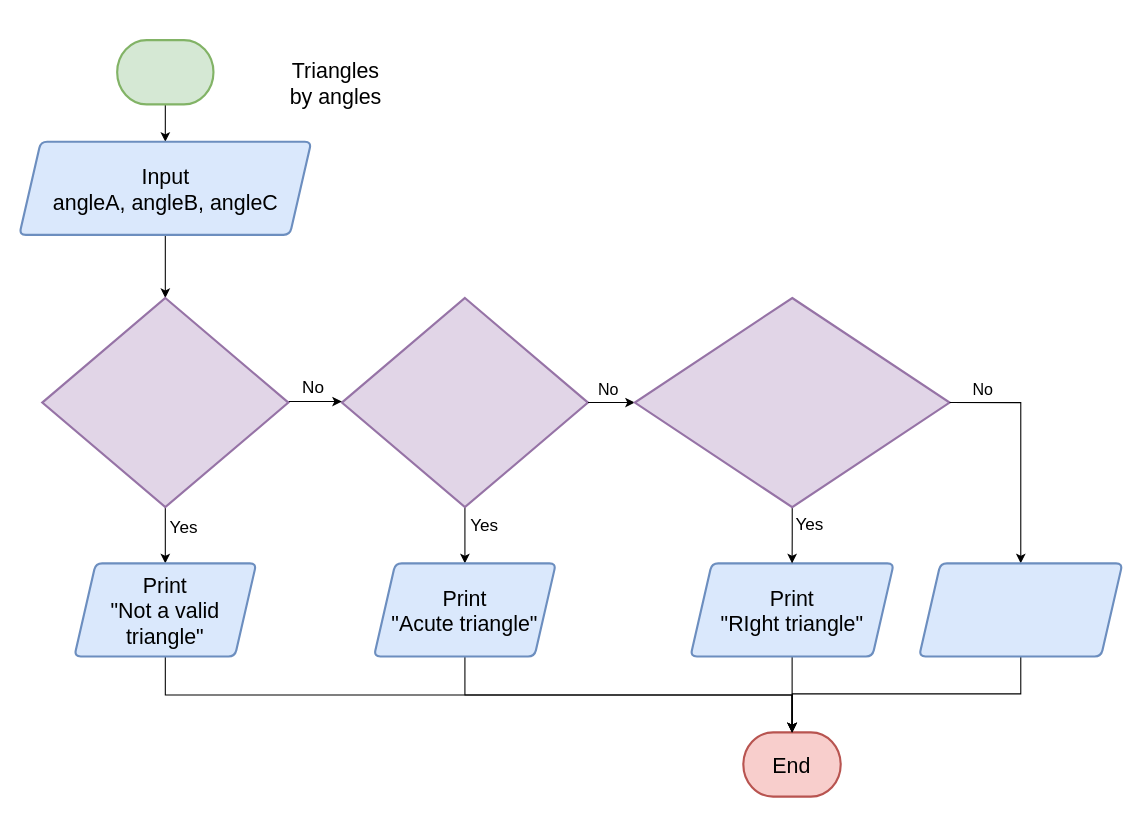
Some shapes in this 1142 by 815 pixel diagram are drawn without their labels. Here are the shapes that lost their labels. From the top down, the centre of each, then its label:
(x=165, y=72): Start
(x=1020, y=609): Print "Obtuse triangle"
